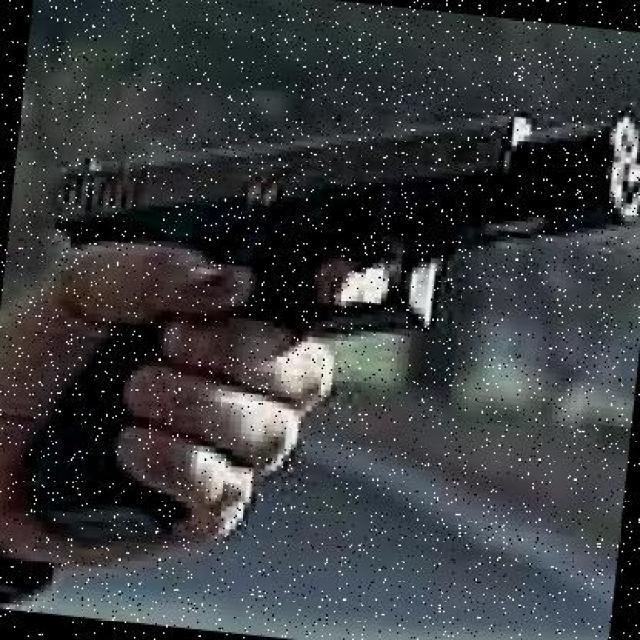rifle: (5, 106, 635, 566)
